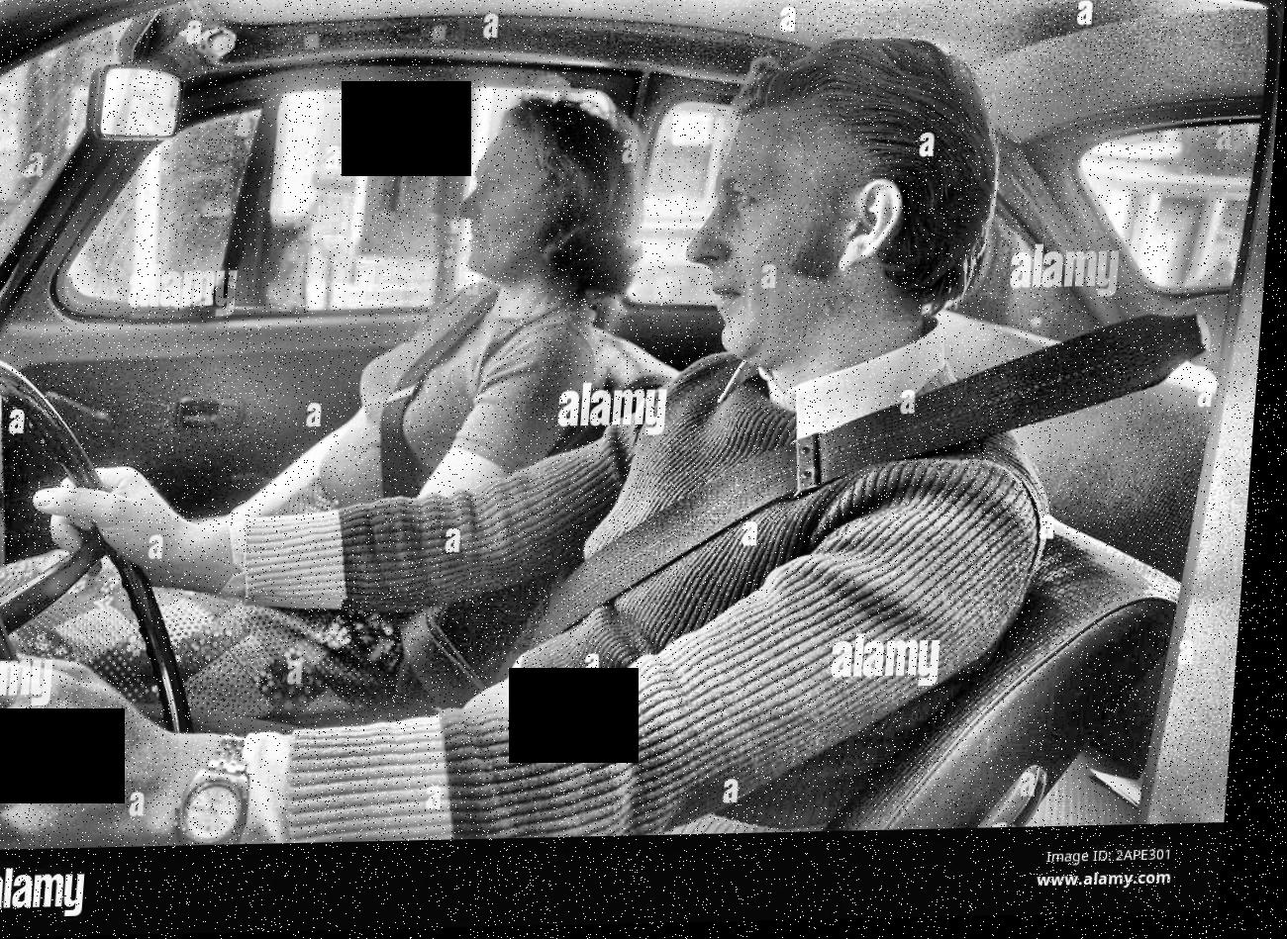seatbelt: (394, 341, 1168, 693), (343, 286, 508, 540)
